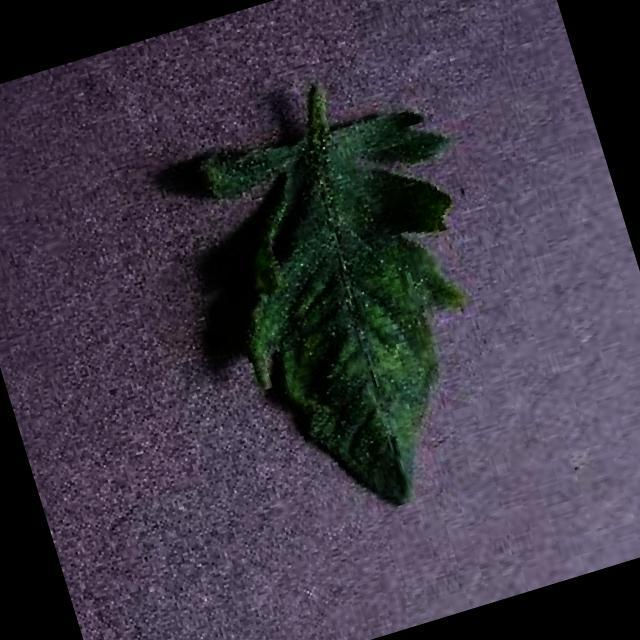Tomato mosaic virus leaf: (175, 74, 550, 545)
